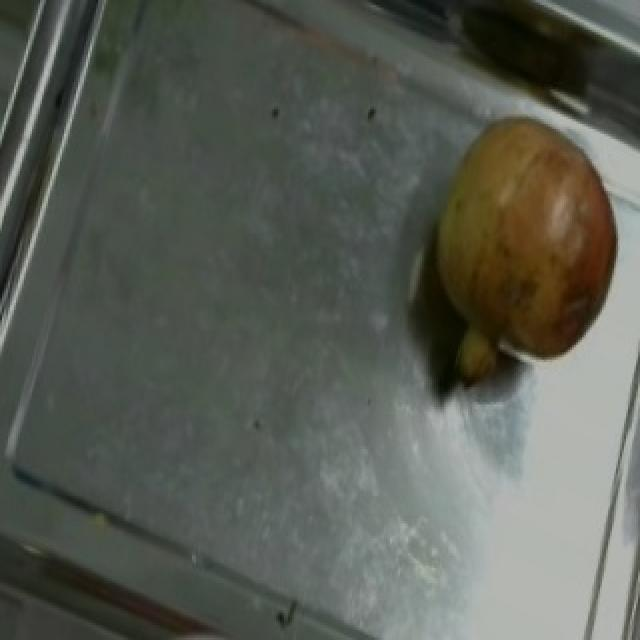fruit: (404, 86, 640, 374)
